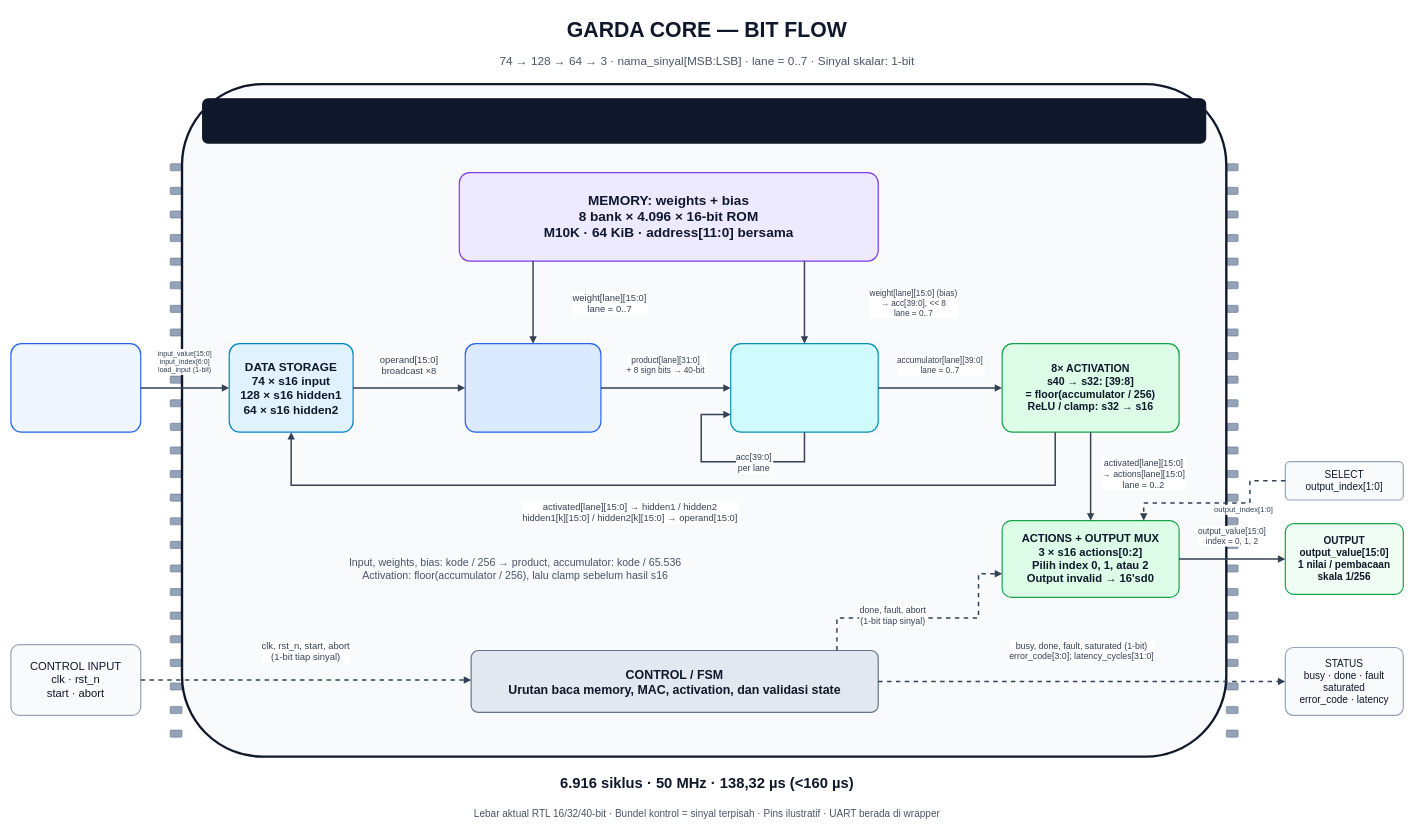
Some shapes in this 1414 by 835 pixel diagram are drawn without their labels. Here are the shapes that lost their labels. From the top down, the centre of each, then its label:
At point (704, 120): "GARDA | FPGA NEURAL CORE | WIDTHS FROM RTL".
At point (75, 387): "INPUT 74 nilai berurutan input_value[15:0] skala 1/256".
At point (532, 387): "8× MULTIPLIER s16 input × s16 weights = s32 product".
At point (804, 387): "8× ACCUMULATOR s40 + sign-extended product = s40 mac_sum Register s40 / lane".
